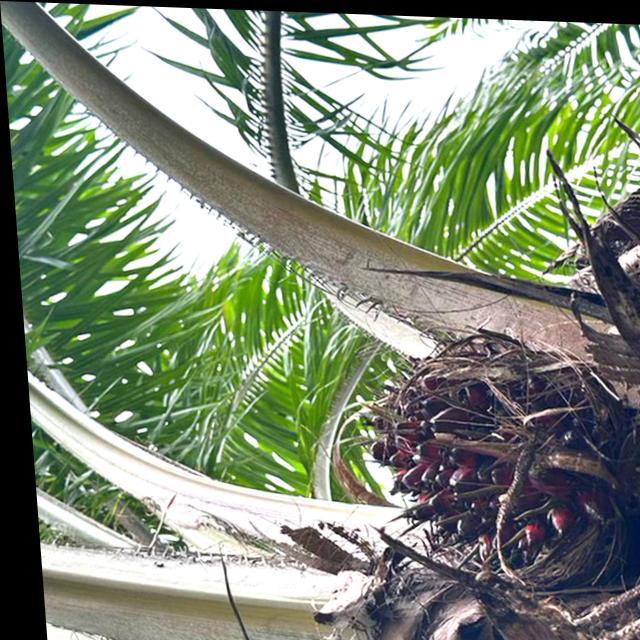ripe: (339, 317, 640, 580)
